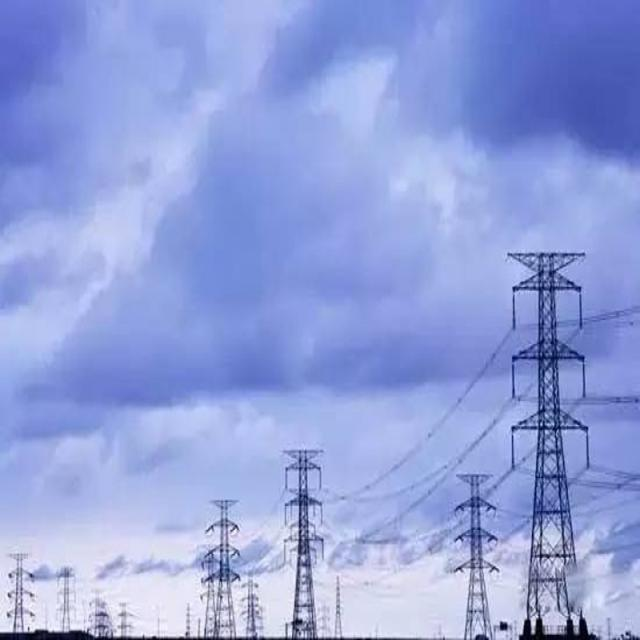non-critical vegetation: (504, 233, 596, 625), (276, 441, 331, 628), (446, 463, 504, 631), (195, 487, 240, 630), (6, 548, 36, 636), (54, 560, 80, 636), (238, 562, 263, 632), (329, 569, 344, 634)
